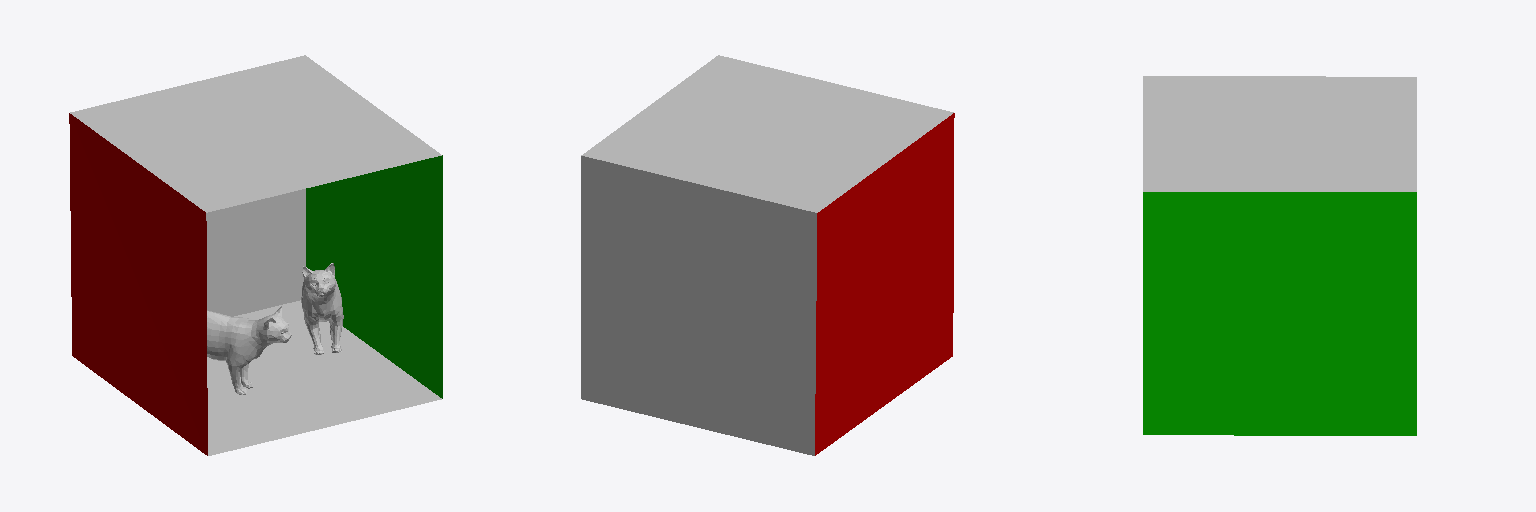
Rendered from cats.obj.
3 renders of one model, left to right at view 1: azimuth 30°, elevation 25°; view 2: azimuth 150°, elevation 25°; view 3: azimuth 270°, elevation 25°, orthographic.
Visible parts, largest first — view 1: left_wall, ceiling, right_wall, floor, back_wall, cat, cat.001; view 2: back_wall, left_wall, ceiling; view 3: right_wall, ceiling.
Boxes of the visible parts, x1=… form: left_wall: x1=69, y1=113, x2=207, y2=455; ceiling: x1=70, y1=55, x2=441, y2=212; right_wall: x1=306, y1=155, x2=442, y2=398; floor: x1=207, y1=300, x2=441, y2=455; back_wall: x1=206, y1=189, x2=305, y2=316; cat: x1=207, y1=306, x2=291, y2=394; cat.001: x1=301, y1=263, x2=343, y2=354; back_wall: x1=581, y1=156, x2=816, y2=455; left_wall: x1=815, y1=113, x2=954, y2=455; ceiling: x1=581, y1=55, x2=953, y2=212; right_wall: x1=1143, y1=192, x2=1416, y2=435; ceiling: x1=1143, y1=76, x2=1416, y2=191.
Size of the model in its own units: 5.56 by 5.49 by 5.6.